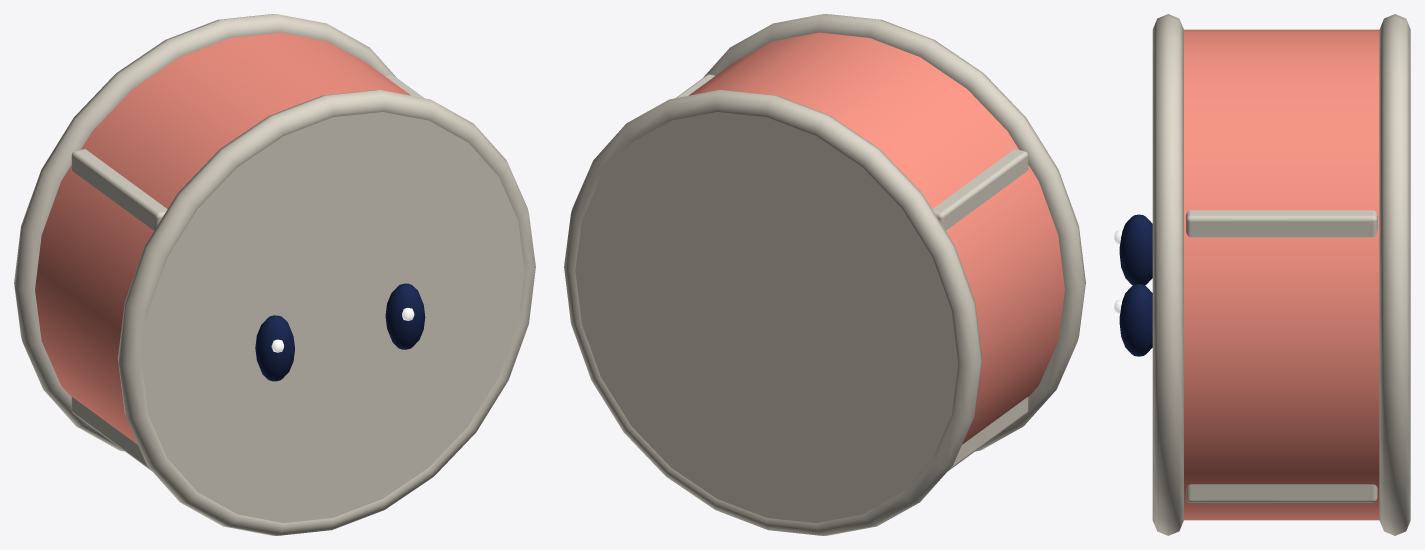
Rendered from snare.glb.
The picture shows the model from 3 angles, left to right: view 1: azimuth 30°, elevation 25°; view 2: azimuth 150°, elevation 25°; view 3: azimuth 270°, elevation 25°; orthographic projection. The views are drawn at different scales.
Visible parts, largest first — view 1: Body, Eyes; view 2: Body; view 3: Body, Eyes.
Boxes of the visible parts, x1,y1,x2,y2 form: Body: [14, 14, 535, 535]; Eyes: [255, 283, 425, 381]; Body: [564, 14, 1085, 535]; Body: [1152, 14, 1410, 535]; Eyes: [1114, 214, 1152, 356].
Bounding box in the file's own units: 0.134 × 0.134 × 0.0758.
